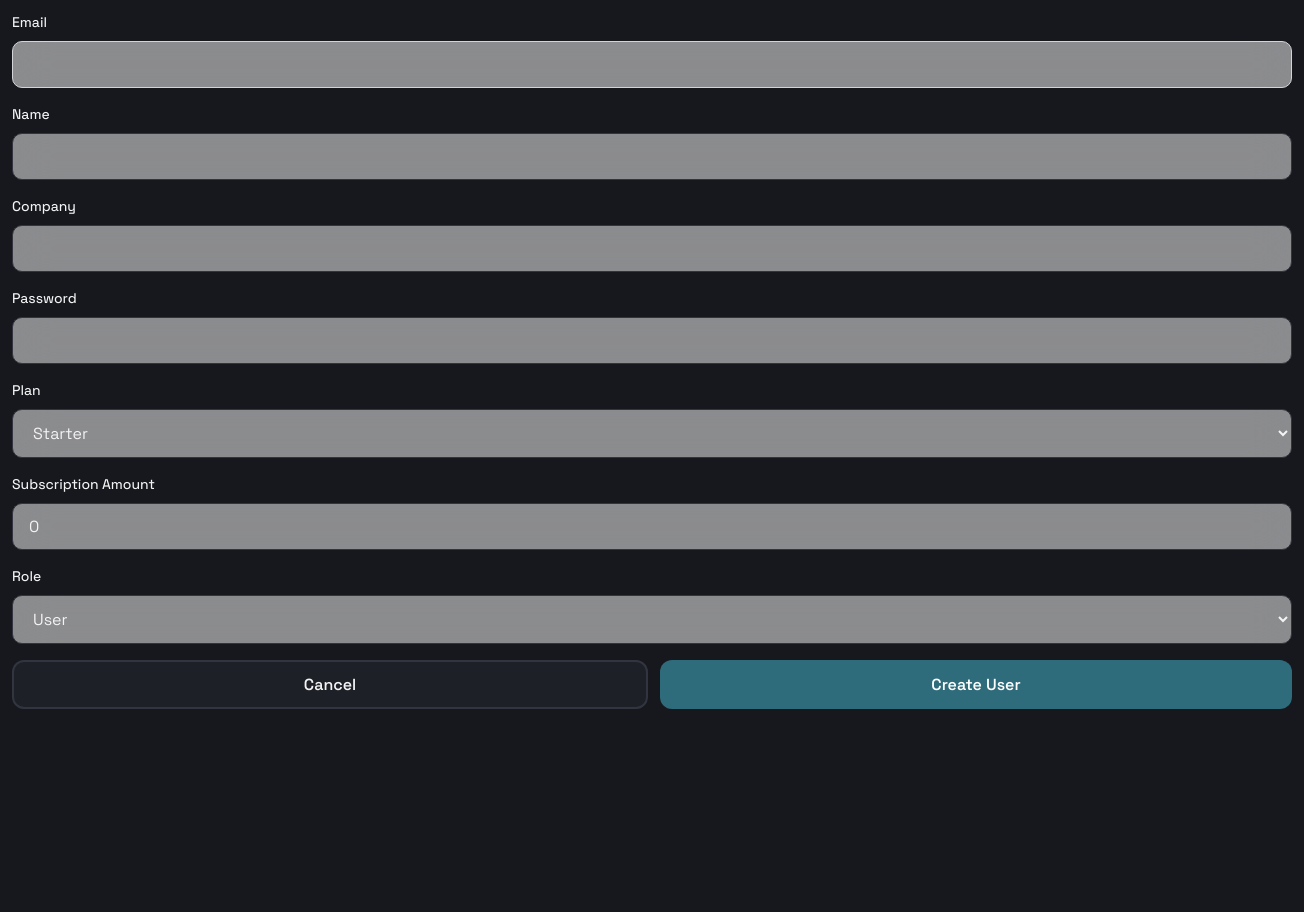
Test case: UserForm Component › Interactions › devrait afficher les erreurs API
Type "test@example.com" into the field labelled "Email".
click(652, 64); type("test@example.com")  # box [12,41,1292,88]
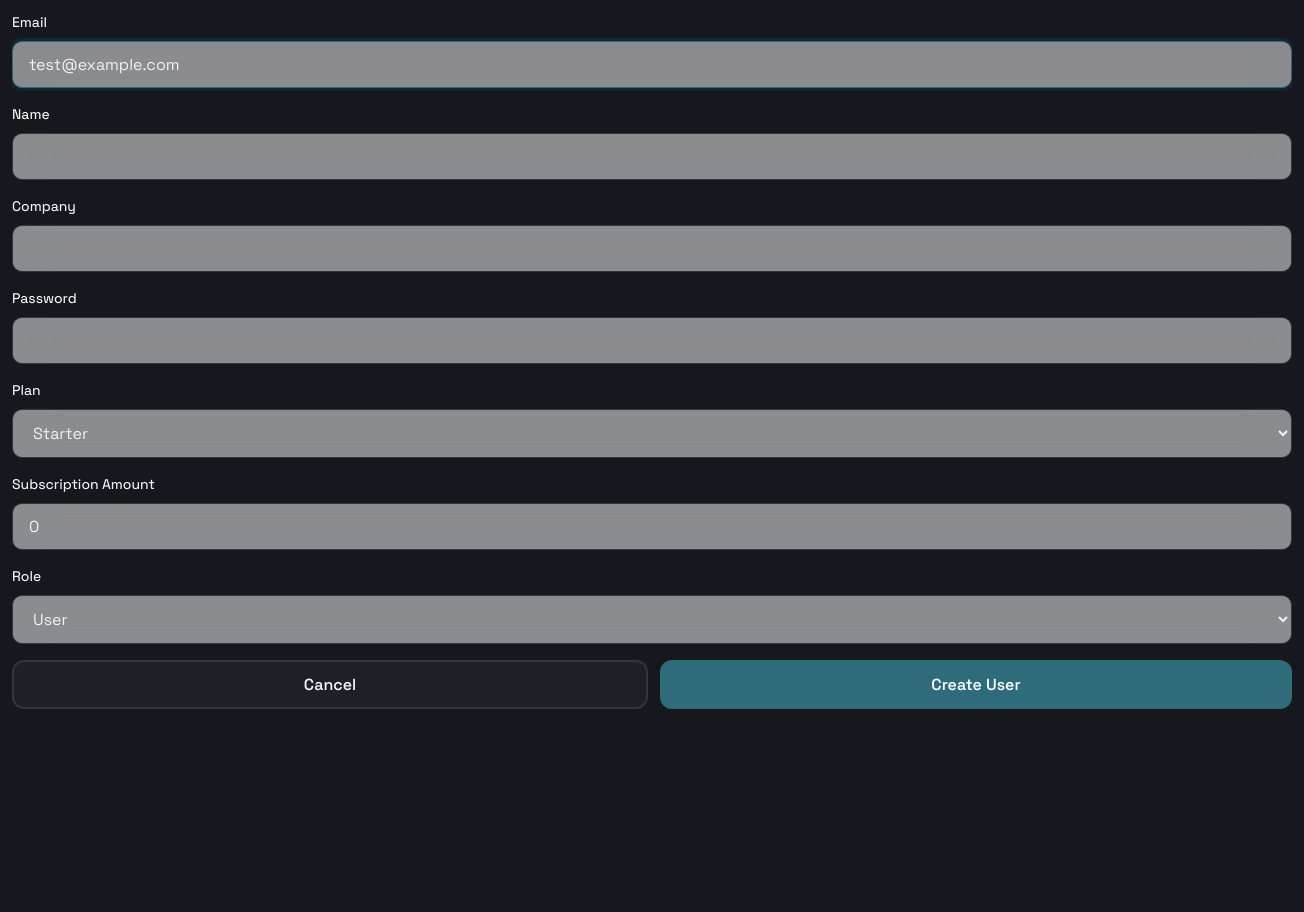
Type "Test User" into the field labelled "Name".
click(652, 156); type("Test User")  # box [12,133,1292,180]
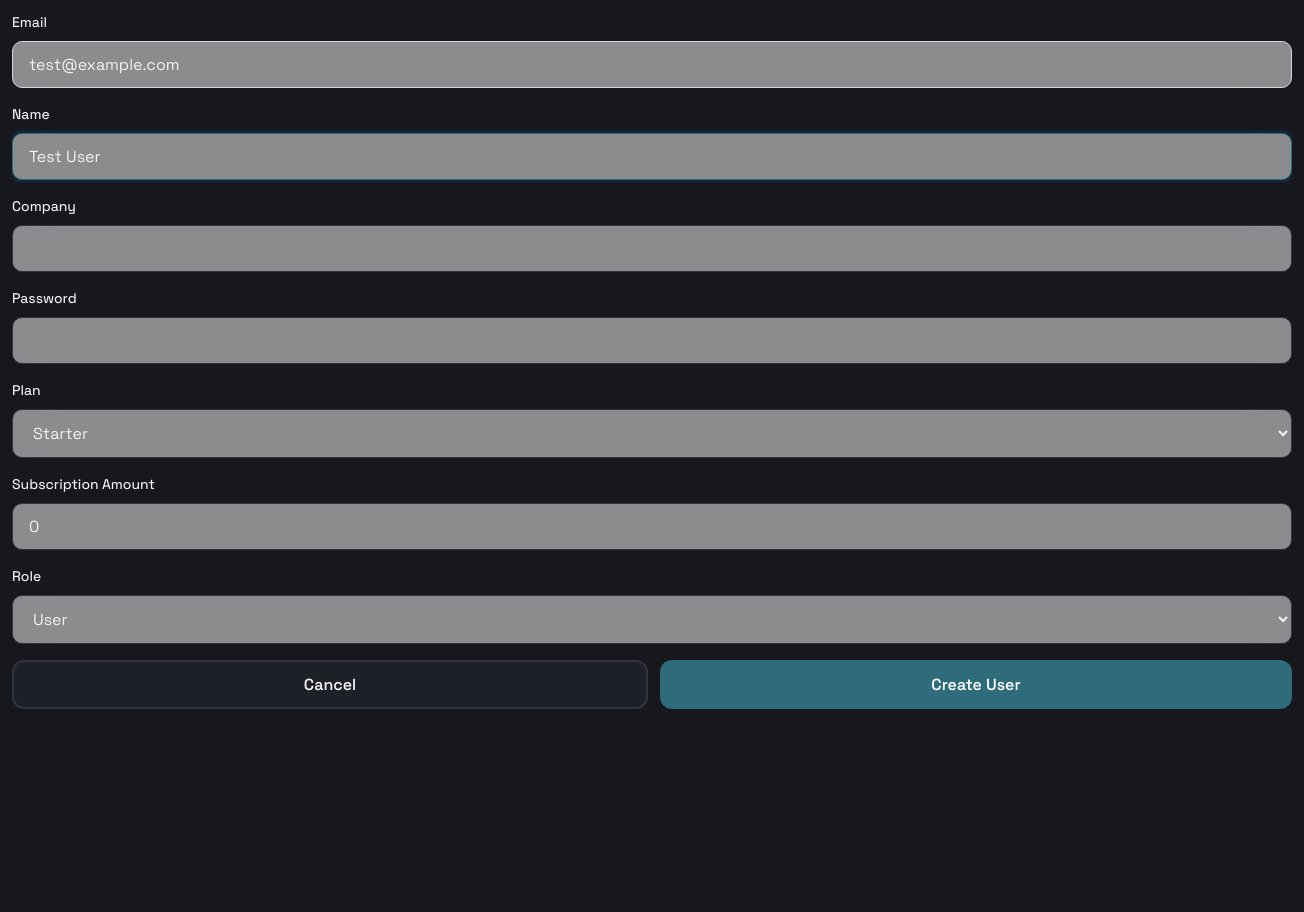
Type "Test Company" into the field labelled "Company".
click(652, 248); type("Test Company")  # box [12,225,1292,272]
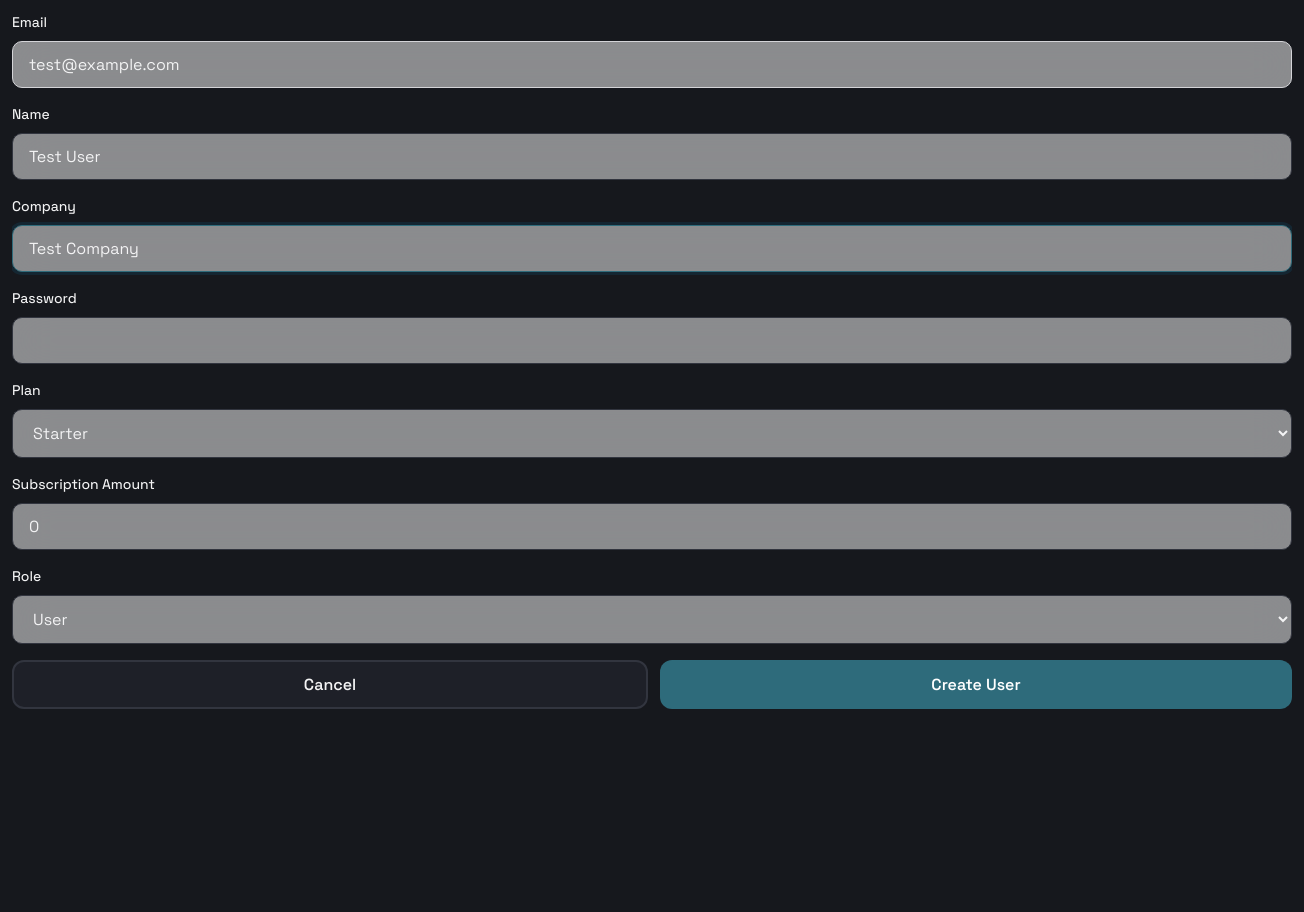
Type "password123" into the password field labelled "Password".
click(652, 340); type("password123")  # box [12,317,1292,364]
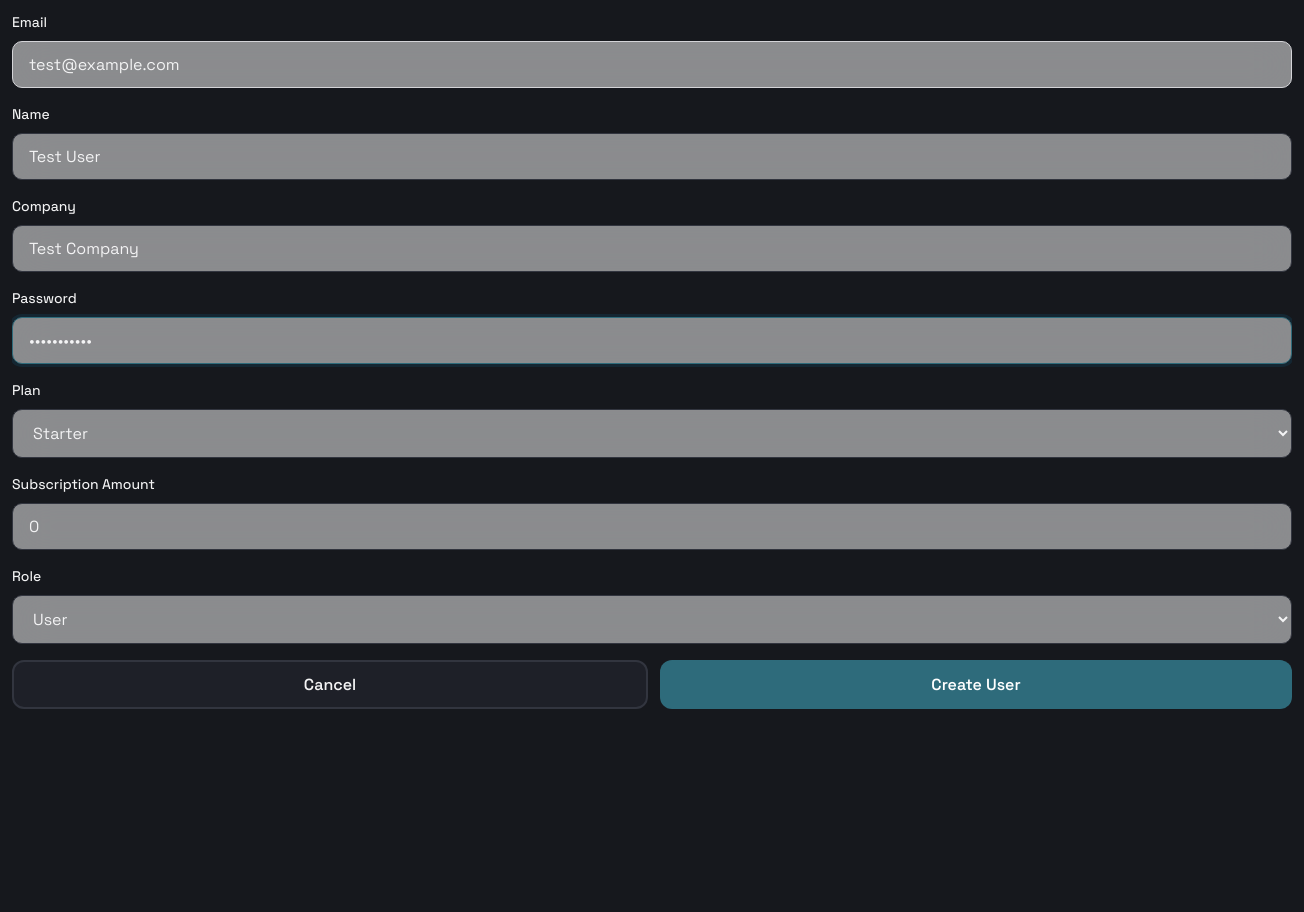
Click the button "Create User".
click(976, 684)  # box [660,660,1292,709]
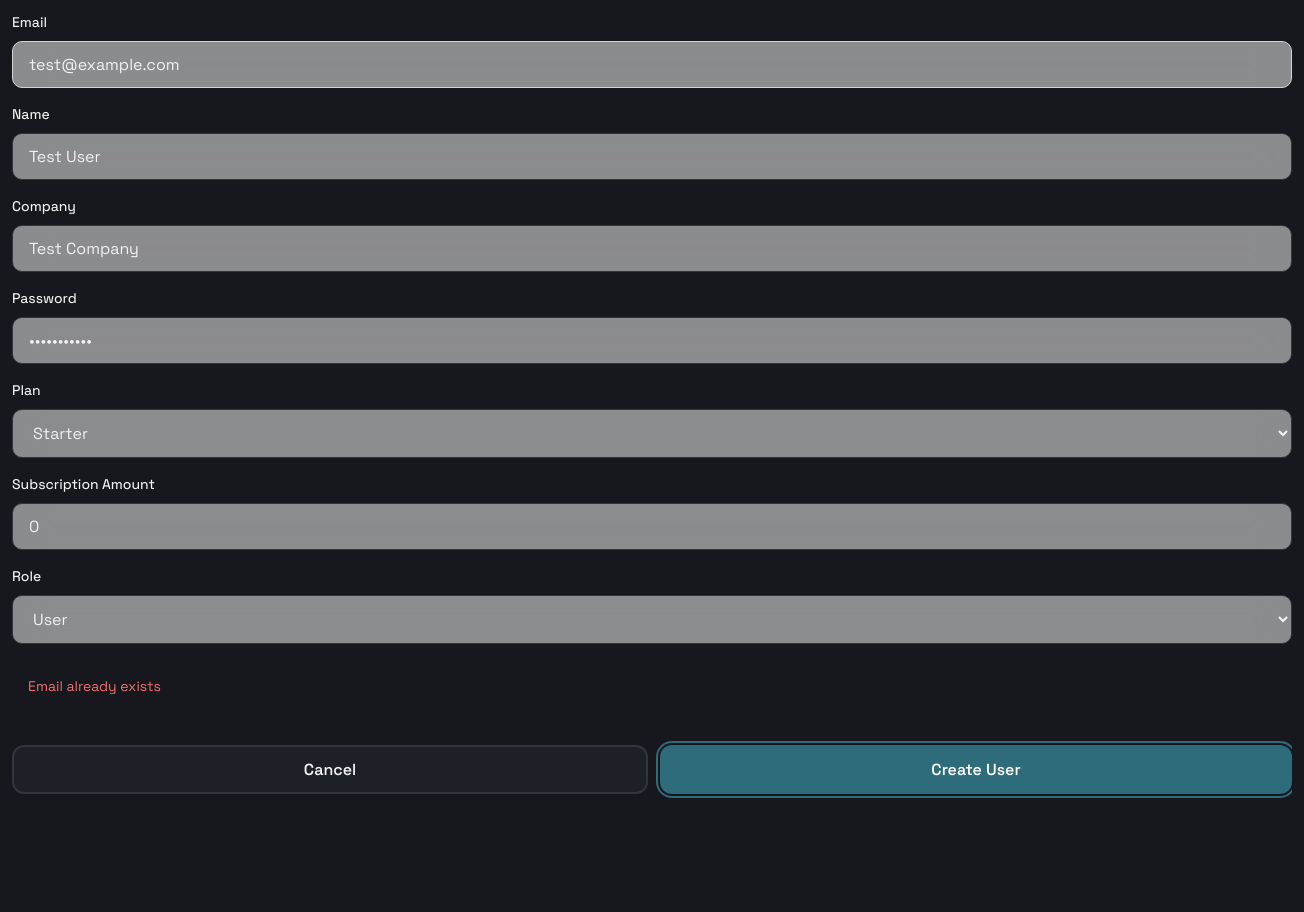
Check: the text "Email already exists" is shown, box [28,677,161,695]
